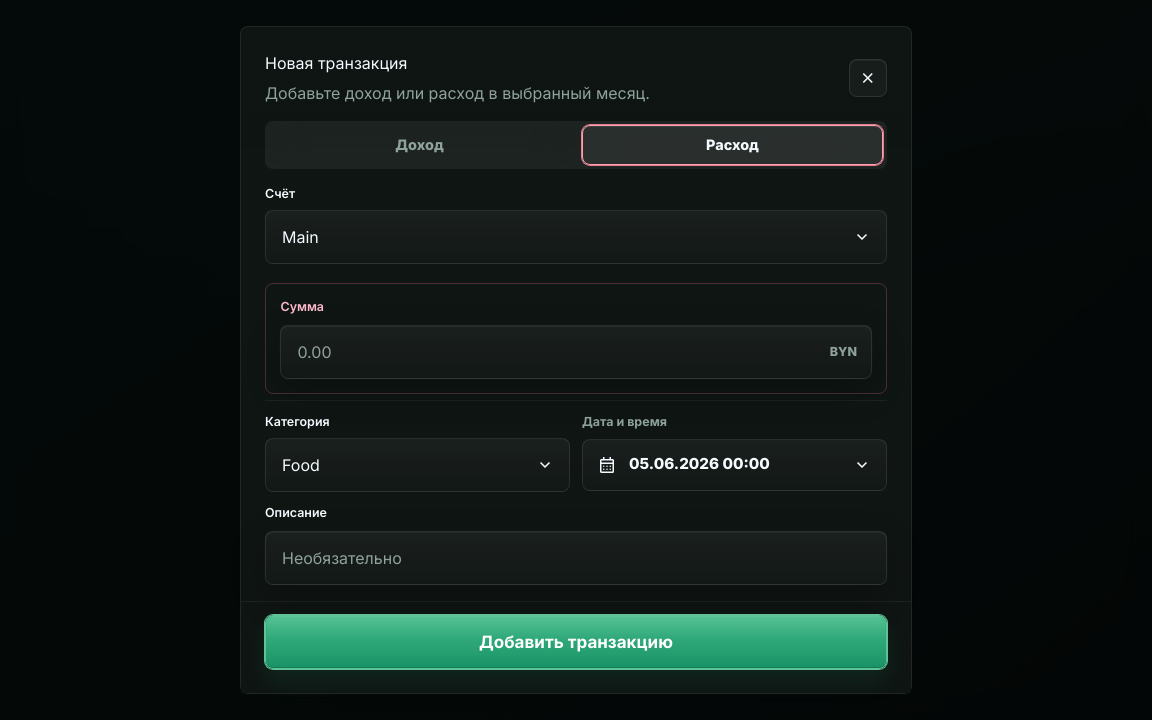
Test: AddTransactionDialogComponent › keeps the transaction dialog open when Escape closes the date-time picker
Step 1. Click the button with class "ms-date-time-picker__trigger" → (734, 465), box [582,439,887,491]
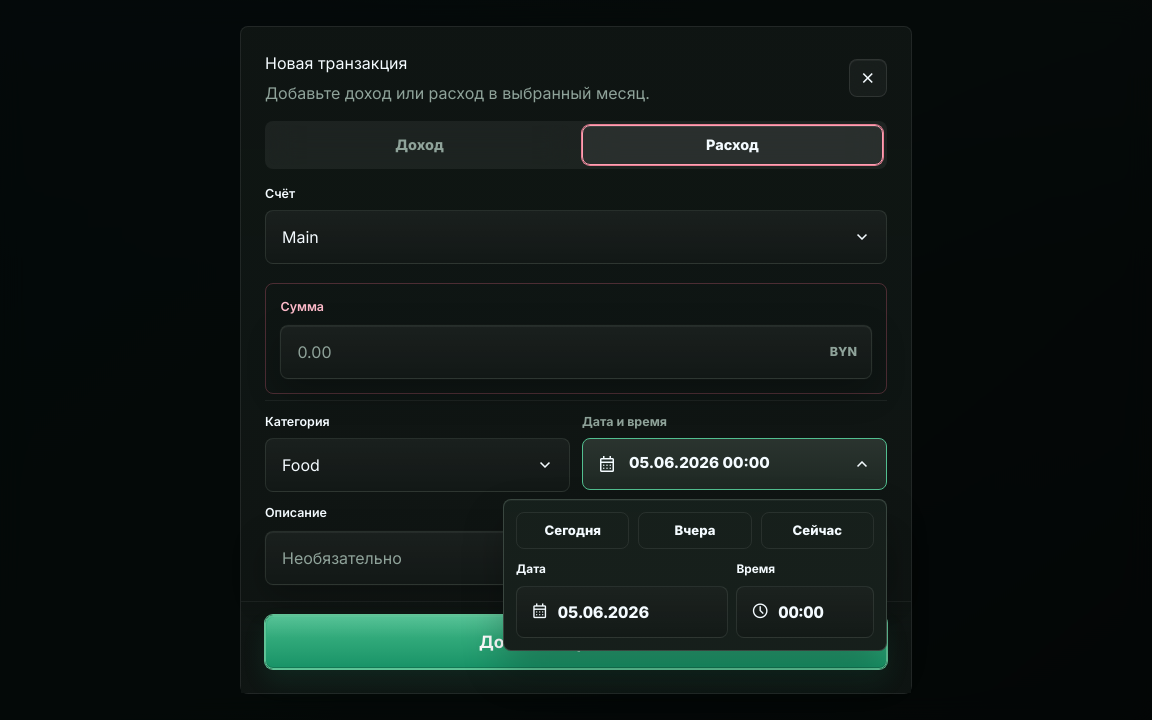
Step 2. Press Escape in the field with class "ms-date-time-picker__date-input", box [558,600,713,624]
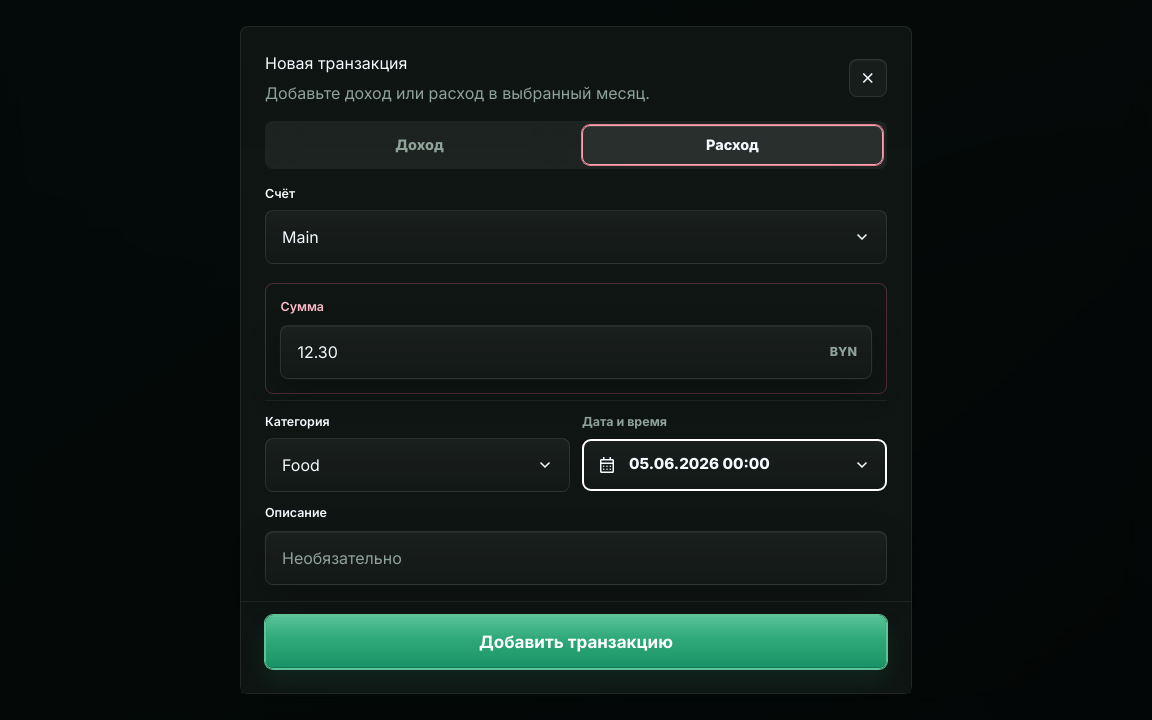
Expected: the dialog with class "dialog" is shown, [240,26,912,694]
Now the dialog with class "ms-date-time-picker__dropdown" is gone
